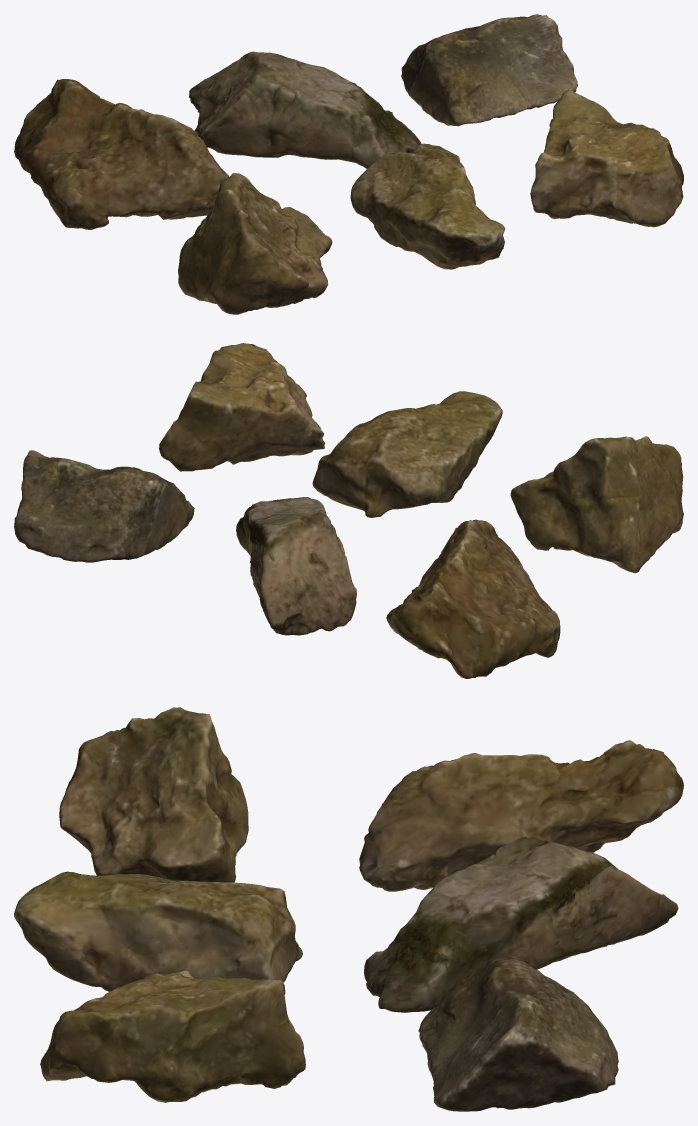
Rendered from rocks.glb.
3 views of the same model, one above another, from view 1: azimuth 30°, elevation 25°; view 2: azimuth 150°, elevation 25°; view 3: azimuth 270°, elevation 25° (orthographic). The views are drawn at different scales.
Visible parts, largest first — view 1: rock_moss_set_01_rock01, rock_moss_set_01_rock02, rock_moss_set_01_rock06, rock_moss_set_01_rock04, rock_moss_set_01_rock03, rock_moss_set_01_rock05; view 2: rock_moss_set_01_rock04, rock_moss_set_01_rock01, rock_moss_set_01_rock05, rock_moss_set_01_rock03, rock_moss_set_01_rock06, rock_moss_set_01_rock02; view 3: rock_moss_set_01_rock01, rock_moss_set_01_rock02, rock_moss_set_01_rock05, rock_moss_set_01_rock04, rock_moss_set_01_rock06, rock_moss_set_01_rock03.
Part boxes in pixels (bbox=[...]): rock_moss_set_01_rock01: bbox=[14, 79, 229, 229]; rock_moss_set_01_rock02: bbox=[189, 51, 421, 168]; rock_moss_set_01_rock06: bbox=[530, 89, 683, 227]; rock_moss_set_01_rock04: bbox=[178, 173, 332, 314]; rock_moss_set_01_rock03: bbox=[401, 14, 577, 126]; rock_moss_set_01_rock05: bbox=[350, 143, 505, 269]; rock_moss_set_01_rock04: bbox=[510, 436, 683, 573]; rock_moss_set_01_rock01: bbox=[386, 519, 560, 678]; rock_moss_set_01_rock05: bbox=[312, 391, 502, 517]; rock_moss_set_01_rock03: bbox=[14, 450, 194, 562]; rock_moss_set_01_rock06: bbox=[159, 343, 325, 471]; rock_moss_set_01_rock02: bbox=[236, 497, 356, 635]; rock_moss_set_01_rock01: bbox=[359, 740, 683, 891]; rock_moss_set_01_rock02: bbox=[364, 836, 678, 1012]; rock_moss_set_01_rock05: bbox=[14, 871, 302, 991]; rock_moss_set_01_rock04: bbox=[59, 707, 248, 882]; rock_moss_set_01_rock06: bbox=[40, 970, 305, 1102]; rock_moss_set_01_rock03: bbox=[418, 956, 618, 1111].
Size of the model in its own units: 8 by 1.77 by 6.95.
Materials: 1 (1 with a texture image).
